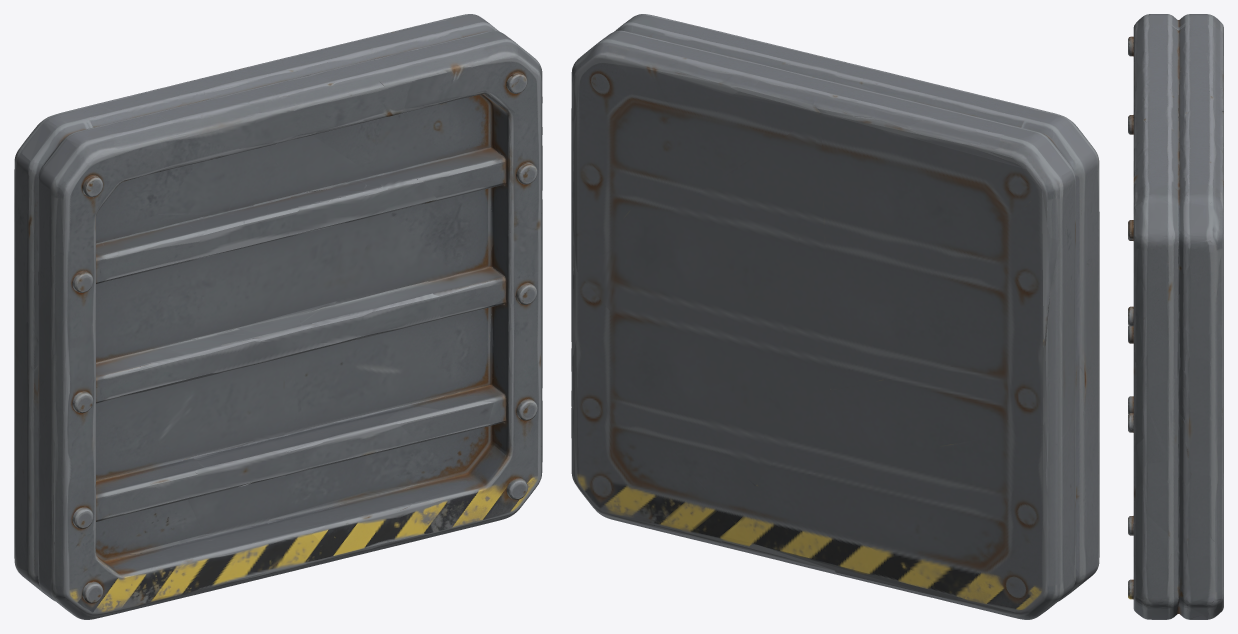
The model's file is paratia.glb.
The picture shows the model from 3 angles, left to right: view 1: azimuth 30°, elevation 25°; view 2: azimuth 150°, elevation 25°; view 3: azimuth 270°, elevation 25°; orthographic projection. The views are drawn at different scales.
Parts seen in each view (by area): view 1: Mesh_0; view 2: Mesh_0; view 3: Mesh_0.
Part boxes in pixels (box(x1,y1,x2,y2)): Mesh_0: box(14, 14, 542, 619); Mesh_0: box(571, 14, 1099, 619); Mesh_0: box(1128, 14, 1223, 619).
Size of the model in its own units: 1.9 by 1.78 by 0.3642.
Materials: 1 (1 with a texture image).
